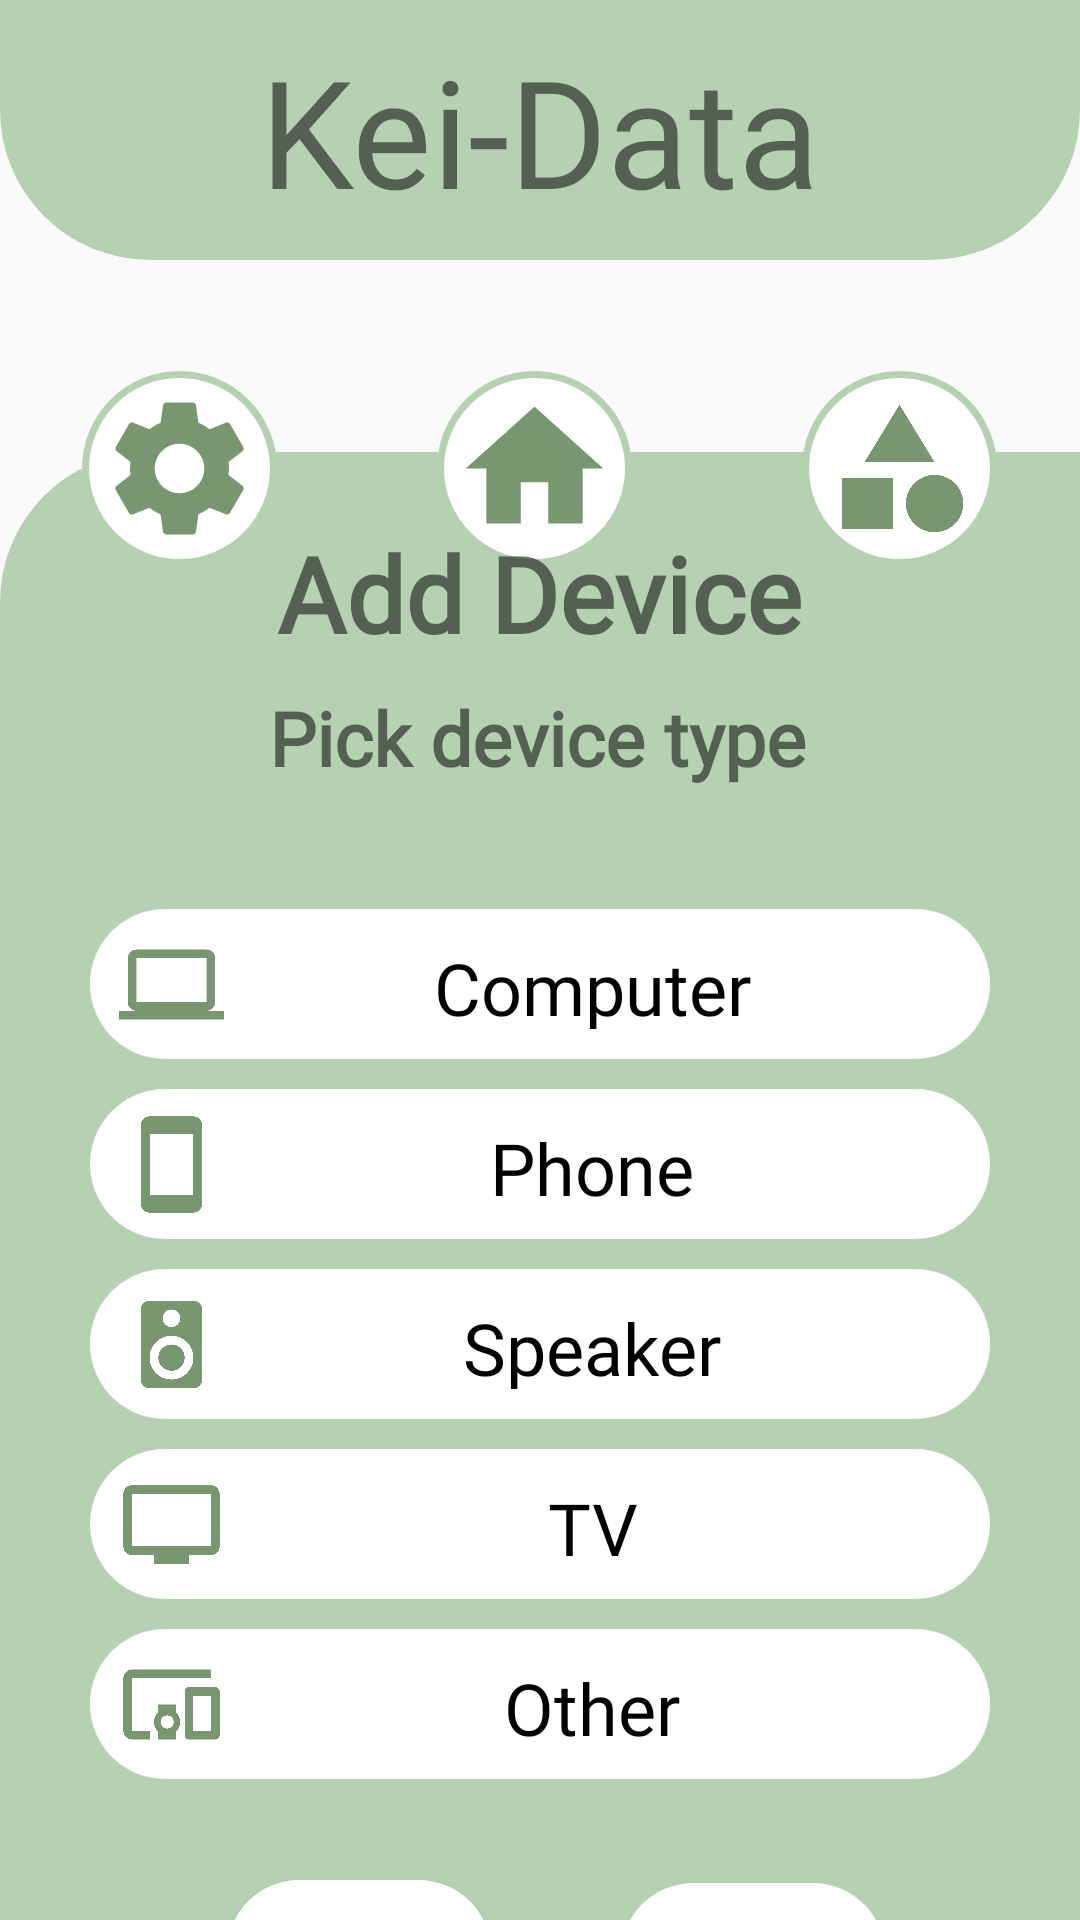

Screen size 1080w x 1920h. Icon name, then its center in pixels as [x,y]:
category: [899,468]
home: [534,468]
settings: [179,468]
